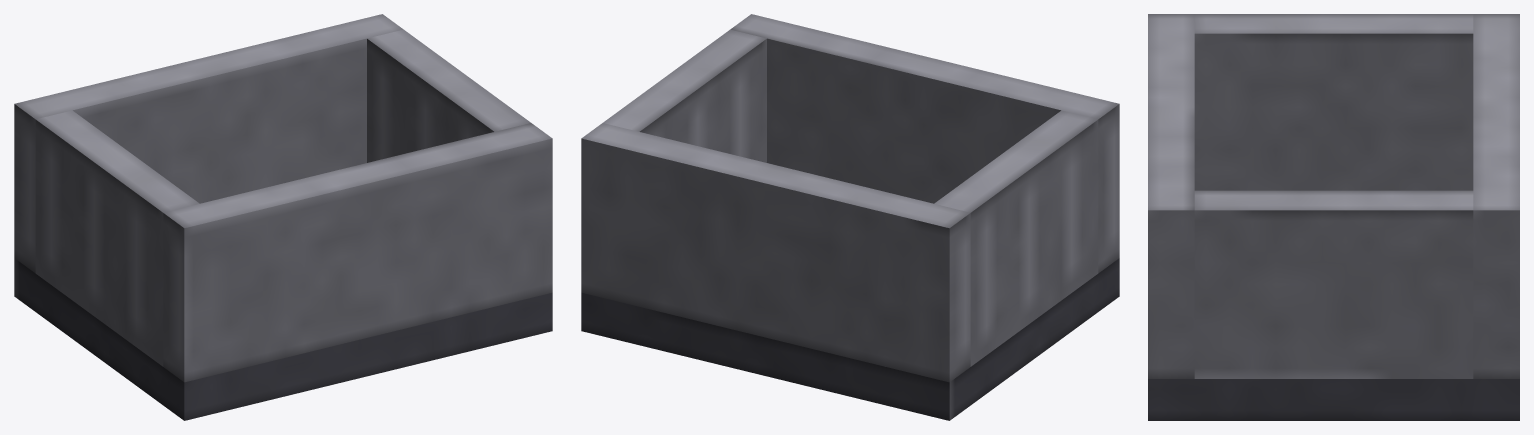
File: minecart.fbx
3 views of the same model, side by side, from view 1: azimuth 30°, elevation 25°; view 2: azimuth 150°, elevation 25°; view 3: azimuth 270°, elevation 25° (orthographic). The views are drawn at different scales.
Parts seen in each view (by area): view 1: minecart; view 2: minecart; view 3: minecart.
Boxes of the visible parts, x1,y1,x2,y2 form: minecart: (14,14,552,420); minecart: (581,14,1119,420); minecart: (1148,14,1519,420).
Size of the model in its own units: 1.25 by 0.625 by 1.
1 material, 1 textured.
